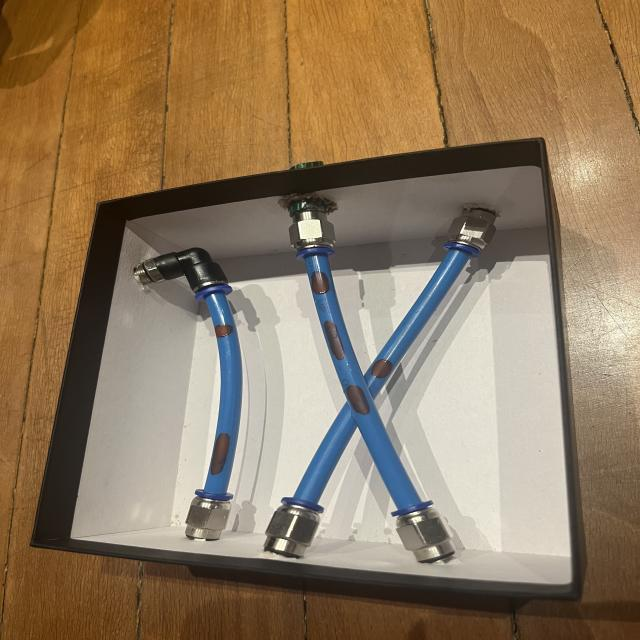hose_damage: (321, 319, 347, 363), (208, 431, 233, 476), (344, 384, 372, 416), (367, 356, 396, 382), (307, 270, 332, 294), (212, 324, 234, 338)
